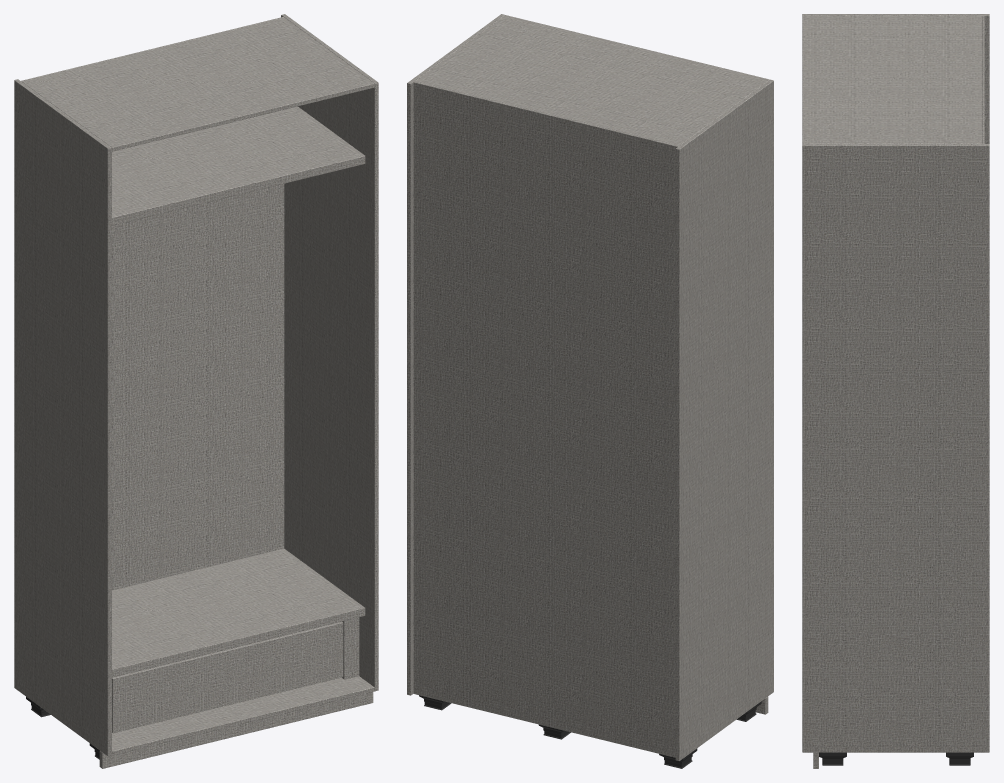
The model's file is cbib12129.gltf.
3 renders of one model, left to right at view 1: azimuth 30°, elevation 25°; view 2: azimuth 150°, elevation 25°; view 3: azimuth 270°, elevation 25°, orthographic.
Parts seen in each view (by area): view 1: CBIB12129; view 2: CBIB12129; view 3: CBIB12129.
Part boxes in pixels (x1,y1,x2,y2): CBIB12129: [14, 14, 378, 768]; CBIB12129: [407, 14, 773, 768]; CBIB12129: [802, 14, 989, 768].
Size of the model in its own units: 1 by 2.2 by 0.6.
Materials: 3 (2 with a texture image).
